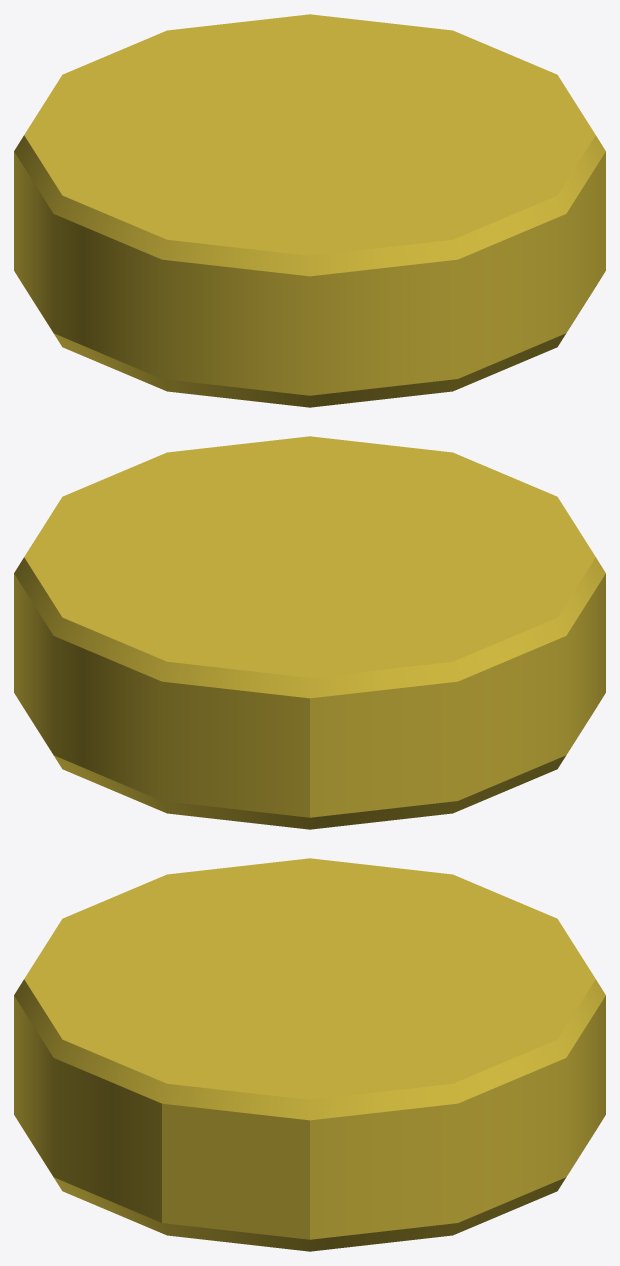
File: SM_cheese_01.fbx
The picture shows the model from 3 angles, top to bottom: view 1: azimuth 30°, elevation 25°; view 2: azimuth 150°, elevation 25°; view 3: azimuth 270°, elevation 25°; orthographic projection.
Visible parts, largest first — view 1: Cylinder029; view 2: Cylinder029; view 3: Cylinder029.
Boxes of the visible parts, <box> form: Cylinder029: <box>14,14,605,407</box>; Cylinder029: <box>14,436,605,829</box>; Cylinder029: <box>14,858,605,1251</box>.
Size of the model in its own units: 16.12 by 4.56 by 16.12.
